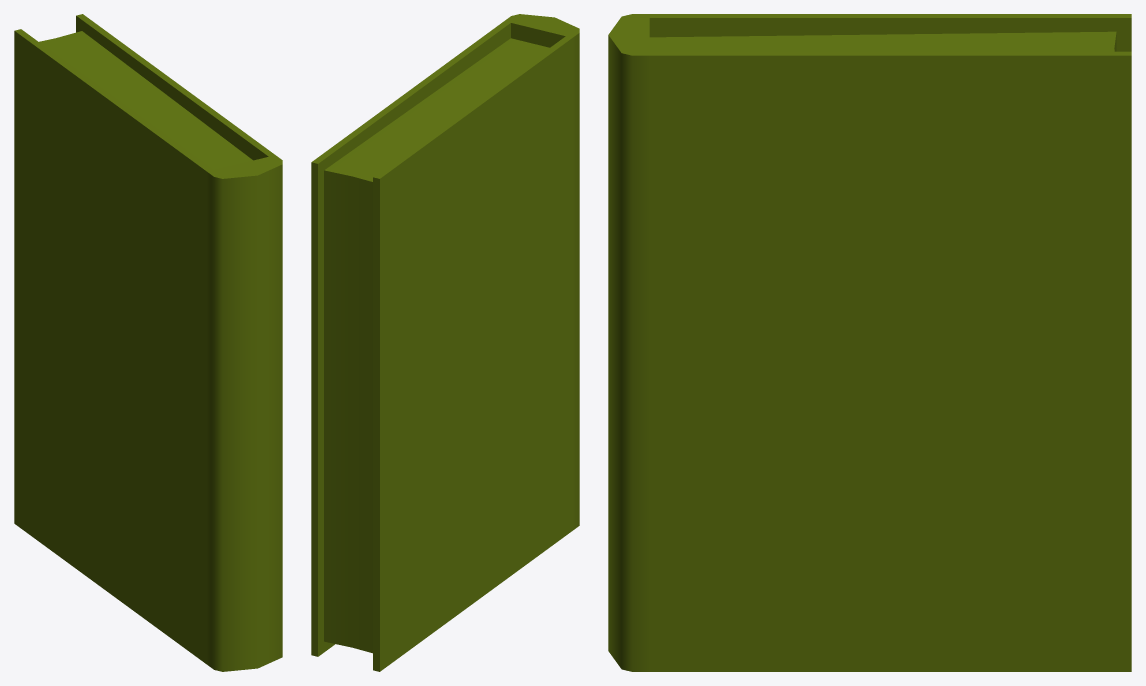
File: RE_PropBook02.FBX
3 views of the same model, side by side, from view 1: azimuth 30°, elevation 25°; view 2: azimuth 150°, elevation 25°; view 3: azimuth 270°, elevation 25° (orthographic). The views are drawn at different scales.
Parts seen in each view (by area): view 1: RE_PropBook02; view 2: RE_PropBook02; view 3: RE_PropBook02.
Boxes of the visible parts, bbox=[...] form: RE_PropBook02: bbox=[14, 14, 282, 671]; RE_PropBook02: bbox=[311, 14, 579, 671]; RE_PropBook02: bbox=[608, 14, 1131, 671].
Size of the model in its own units: 1.85 by 12.71 by 9.78.
